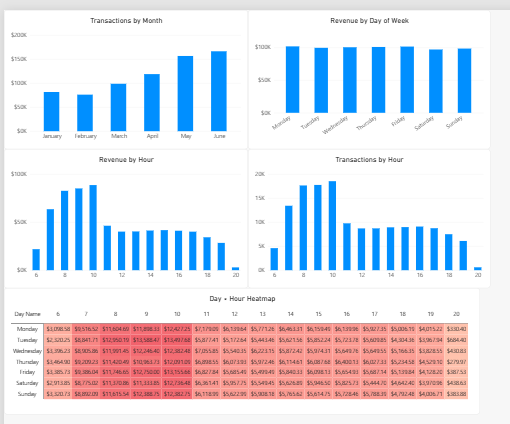

This screenshot's page, from the dashboard's own definition file:
{"tool":"powerbi","page":{"name":"Sales & Time Analysis","canvas":[1920,1080],"ordinal":1},"visuals":[{"type":"columnChart","title":"Transactions by Month","fields":{"Category":["DimDate.Month"],"Y":["_Measures.Total Revenue"]},"box":[0,0,610,348],"z":0},{"type":"columnChart","title":"Revenue by Day of Week","fields":{"Category":["DimDate.Day Name"],"Y":["_Measures.Total Revenue"]},"box":[610,0,606,348],"z":1000},{"type":"columnChart","title":"Revenue by Hour","fields":{"Category":["FactSales.Hour"],"Y":["_Measures.Total Revenue"]},"box":[0,348,610,348],"z":2000},{"type":"columnChart","title":"Transactions by Hour","fields":{"Category":["FactSales.Hour"],"Y":["_Measures.Total Transactions"]},"box":[610,348,606,348],"z":3000},{"type":"pivotTable","title":"Day × Hour Heatmap","fields":{"Columns":["FactSales.Hour"],"Rows":["DimDate.Day Name"],"Values":["_Measures.Total Revenue"]},"box":[0,696,1190,316],"z":4000}]}

Visuals, with their boxes on the page's 1920x1080 design canvas (x1, y1, x2, y2). These are canvas units, not pixel positions in the 510x424 screenshot, which may show the page scaled, cropped or inside an application window:
"Transactions by Month" columnChart: bbox=[0, 0, 610, 348]
"Revenue by Day of Week" columnChart: bbox=[610, 0, 1216, 348]
"Revenue by Hour" columnChart: bbox=[0, 348, 610, 696]
"Transactions by Hour" columnChart: bbox=[610, 348, 1216, 696]
"Day × Hour Heatmap" pivotTable: bbox=[0, 696, 1190, 1012]
